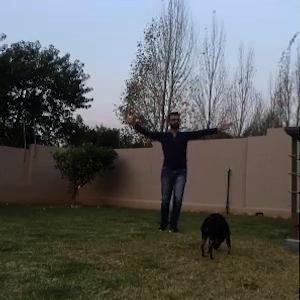takeoff: (128, 94, 243, 240)
